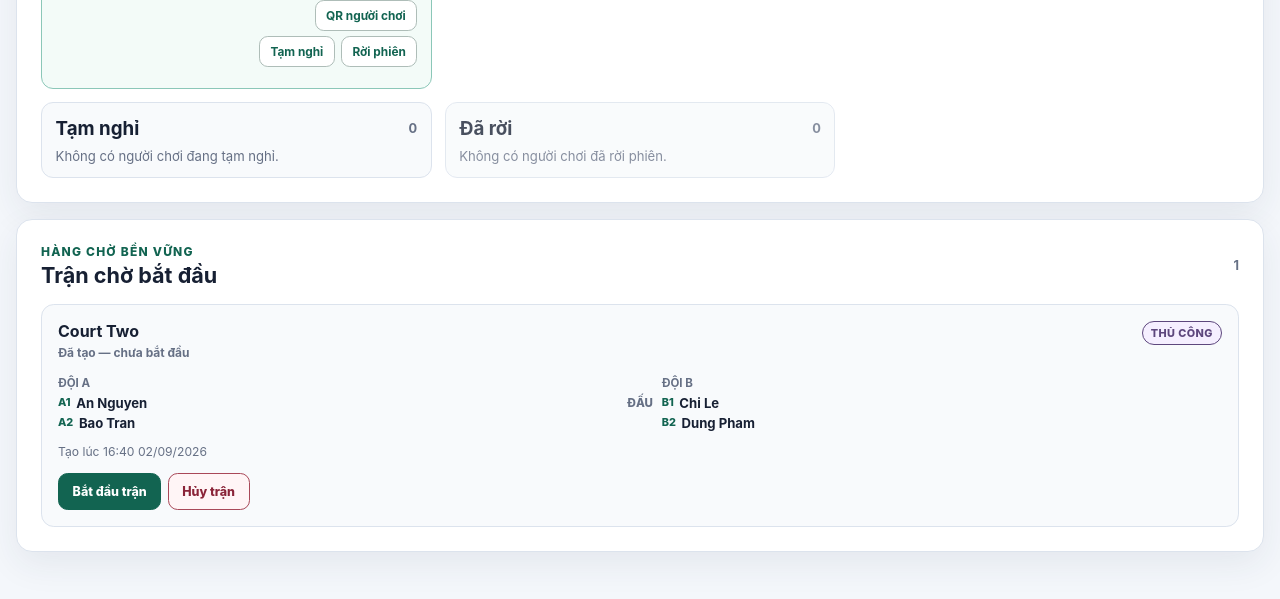
Scenario: Start Match mutation › re-reads Matches, Participants, and Courts and renders their PLAYING state
(page scrolled)
What coordinates should you click on to do the following:
click the button "Bắt đầu trận"
I would click on:
 (110, 492)
Its box is x1=58 y1=473 x2=161 y2=510.
(page scrolled)
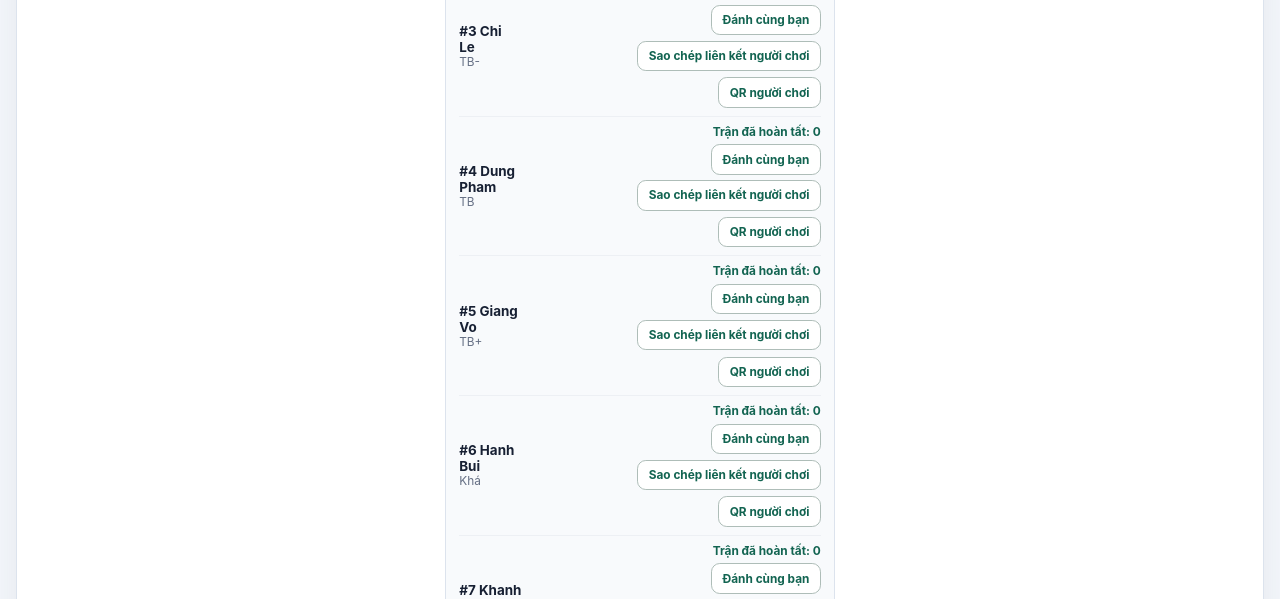
Check: the text "Đã tạo — chưa bắt đầu" is gone
